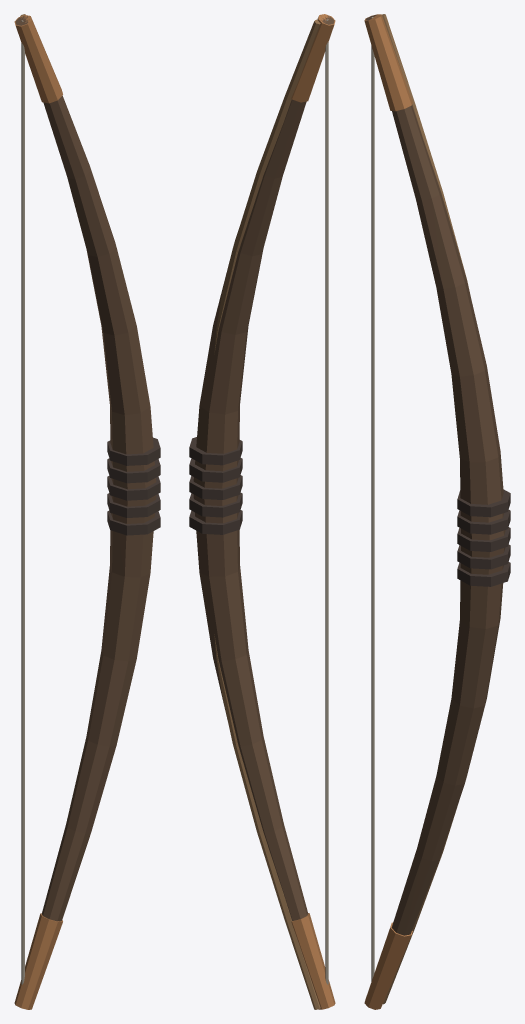
File: AEW_Bow_YewWarden.fbx
3 views of the same model, side by side, from view 1: azimuth 30°, elevation 25°; view 2: azimuth 150°, elevation 25°; view 3: azimuth 330°, elevation 25° (orthographic).
Visible parts, largest first — view 1: AEW_Bow_YewWarden; view 2: AEW_Bow_YewWarden; view 3: AEW_Bow_YewWarden.
Part boxes in pixels (x1=…): AEW_Bow_YewWarden: x1=14, y1=14, x2=160, y2=1009; AEW_Bow_YewWarden: x1=189, y1=14, x2=335, y2=1009; AEW_Bow_YewWarden: x1=364, y1=14, x2=510, y2=1009.
Bounding box in the file's own units: 0.2567 × 1.71 × 0.086.
